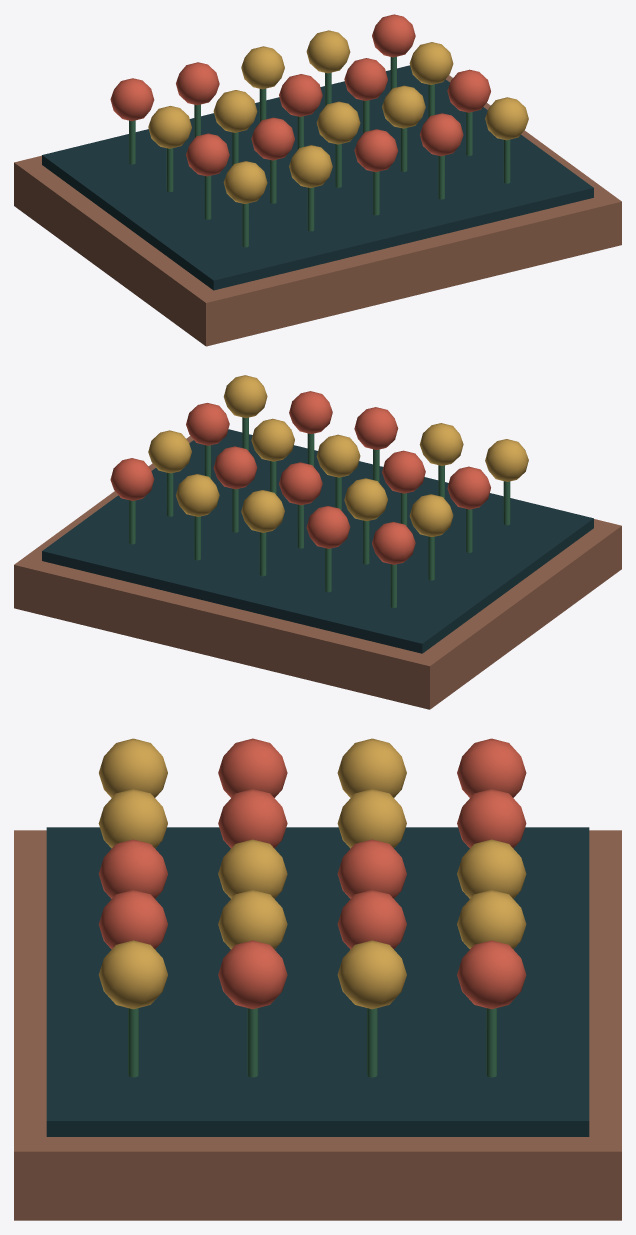
Rendered from deco_flowerbed.glb.
3 renders of one model, top to bottom at view 1: azimuth 30°, elevation 25°; view 2: azimuth 150°, elevation 25°; view 3: azimuth 270°, elevation 25°, orthographic. The views are drawn at different scales.
Parts seen in each view (by area): view 1: deco_flowerbed; view 2: deco_flowerbed; view 3: deco_flowerbed.
Part boxes in pixels (bbox=[...]): deco_flowerbed: bbox=[14, 14, 621, 346]; deco_flowerbed: bbox=[14, 375, 621, 709]; deco_flowerbed: bbox=[14, 738, 621, 1220].
Size of the model in its own units: 3.5 by 1.11 by 2.8.
